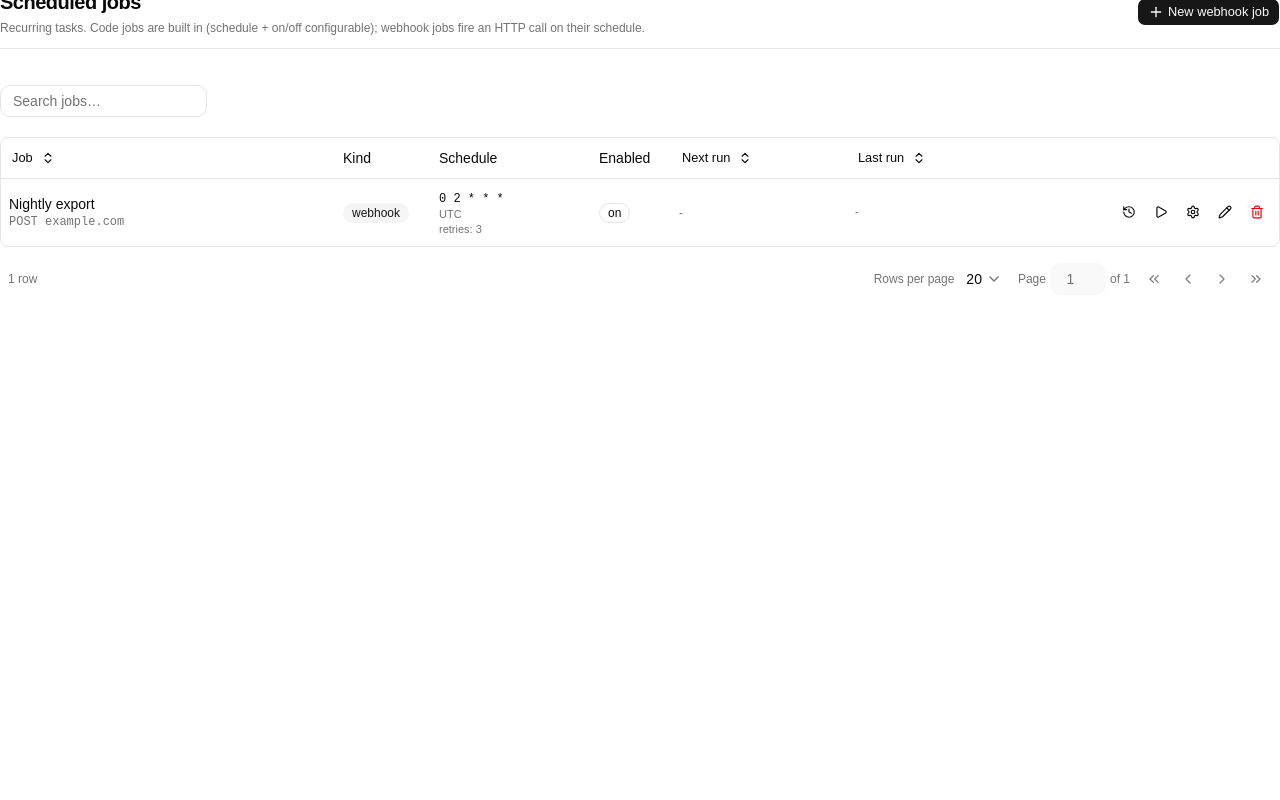
Test: ScheduledJobsList delete › closes at once and reports a refused delete on the page
Note: Delete sits behind scheduler.manage - findBy waits for the grants
Step 1. Click the button titled "Delete" → (1257, 212), box [1243,198,1271,226]
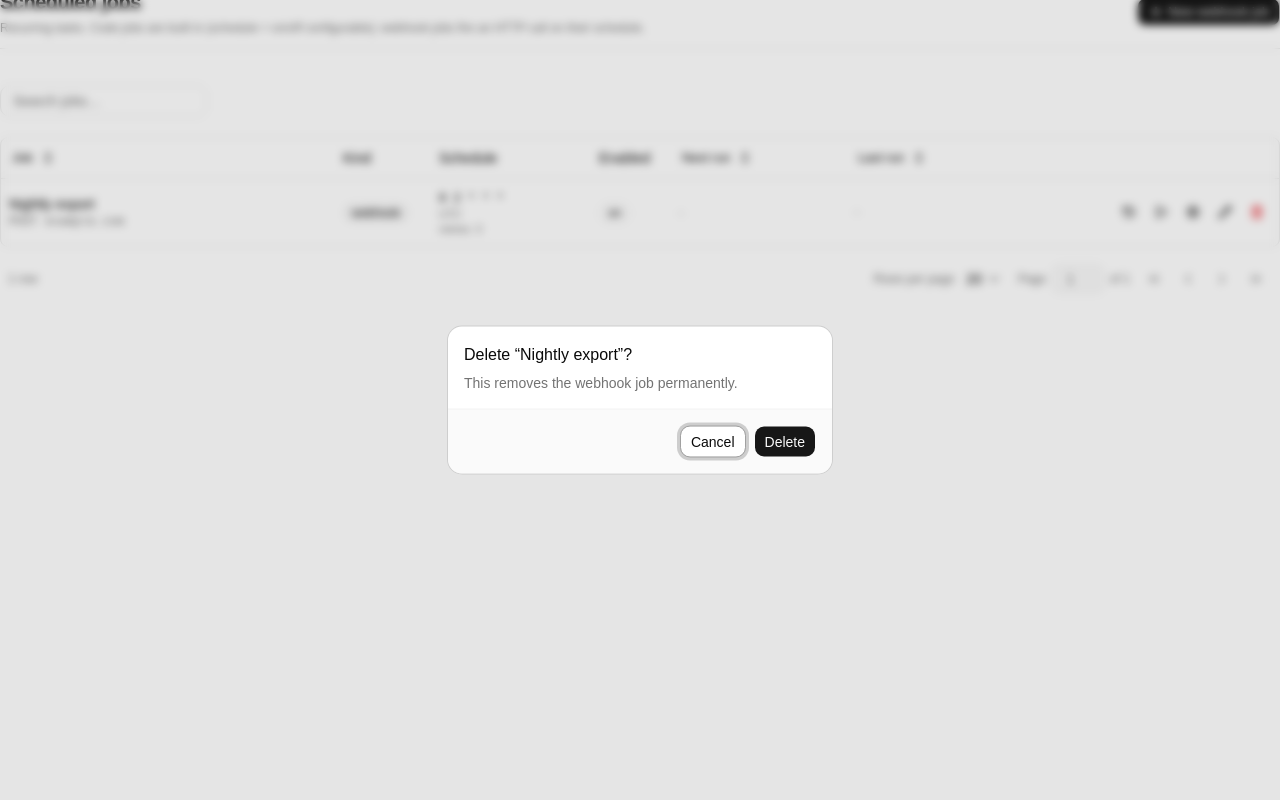
Step 2. Click the button "Delete" → (785, 442), box [754,426,816,458]
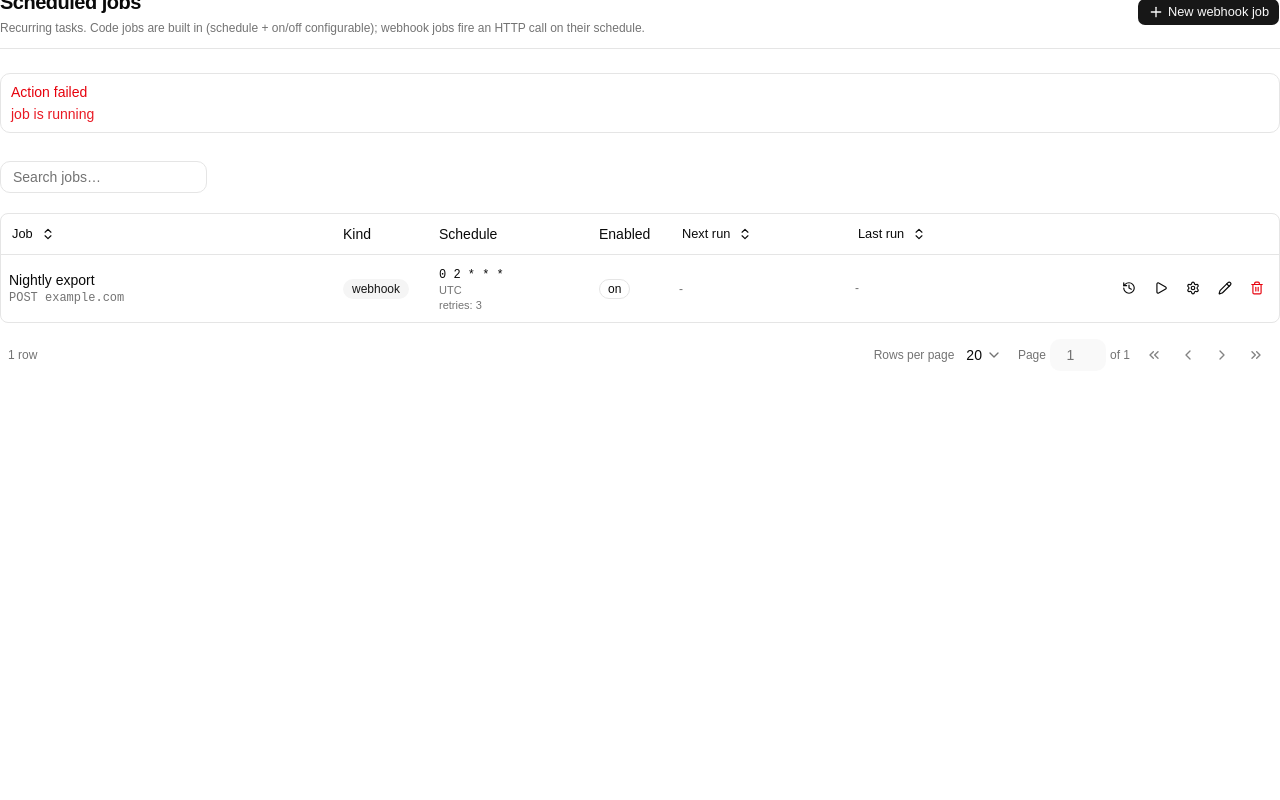
Expected: the dialog is gone
Expected: the text "job is running" is shown, [11,106,94,122]
